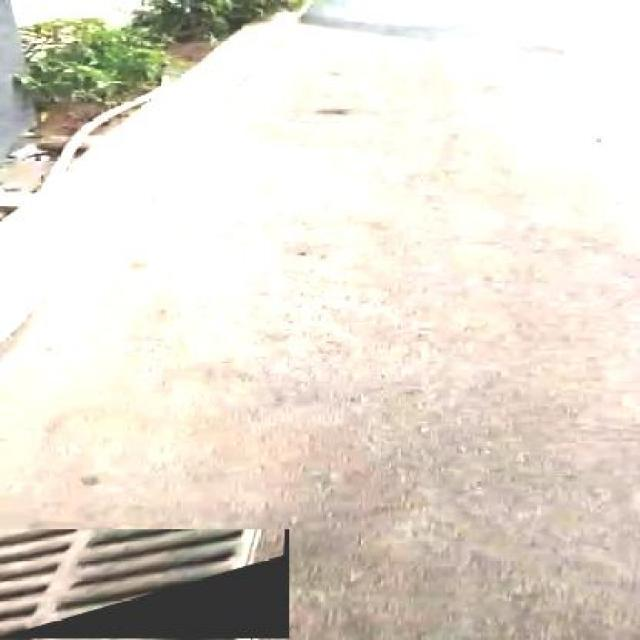Manhole: (1, 528, 290, 638)
